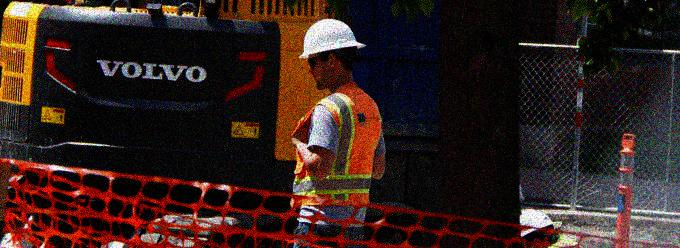helmet: (299, 18, 365, 90)
